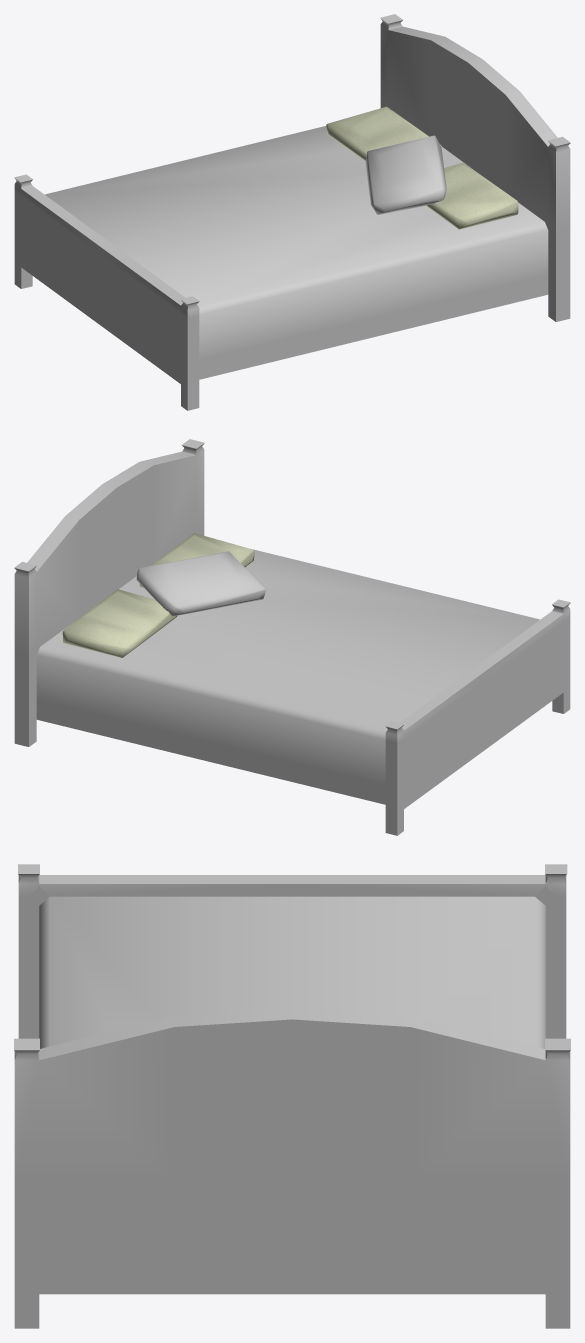
The model's file is king_bed.fbx.
3 renders of one model, top to bottom at view 1: azimuth 30°, elevation 25°; view 2: azimuth 150°, elevation 25°; view 3: azimuth 270°, elevation 25°, orthographic. The views are drawn at different scales.
Visible parts, largest first — view 1: kingBed, pillow_002, pillow_001, pillow; view 2: kingBed, pillow_002, pillow, pillow_001; view 3: kingBed.
Boxes of the visible parts, x1,y1,x2,y2 form: kingBed: (14, 14, 570, 410); pillow_002: (365, 135, 446, 214); pillow_001: (426, 162, 518, 229); pillow: (326, 106, 441, 160); kingBed: (14, 439, 570, 835); pillow_002: (136, 551, 265, 616); pillow: (62, 589, 177, 657); pillow_001: (139, 533, 254, 587); kingBed: (14, 864, 570, 1328).
Bounding box in the file's own units: 95.06 × 46.38 × 75.71.
